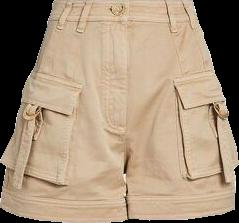Hemline: (0, 204, 129, 222), (126, 206, 236, 221)
Pantleg: (0, 0, 127, 222), (127, 0, 238, 219)
Waistline: (48, 16, 199, 24), (54, 0, 193, 2)
